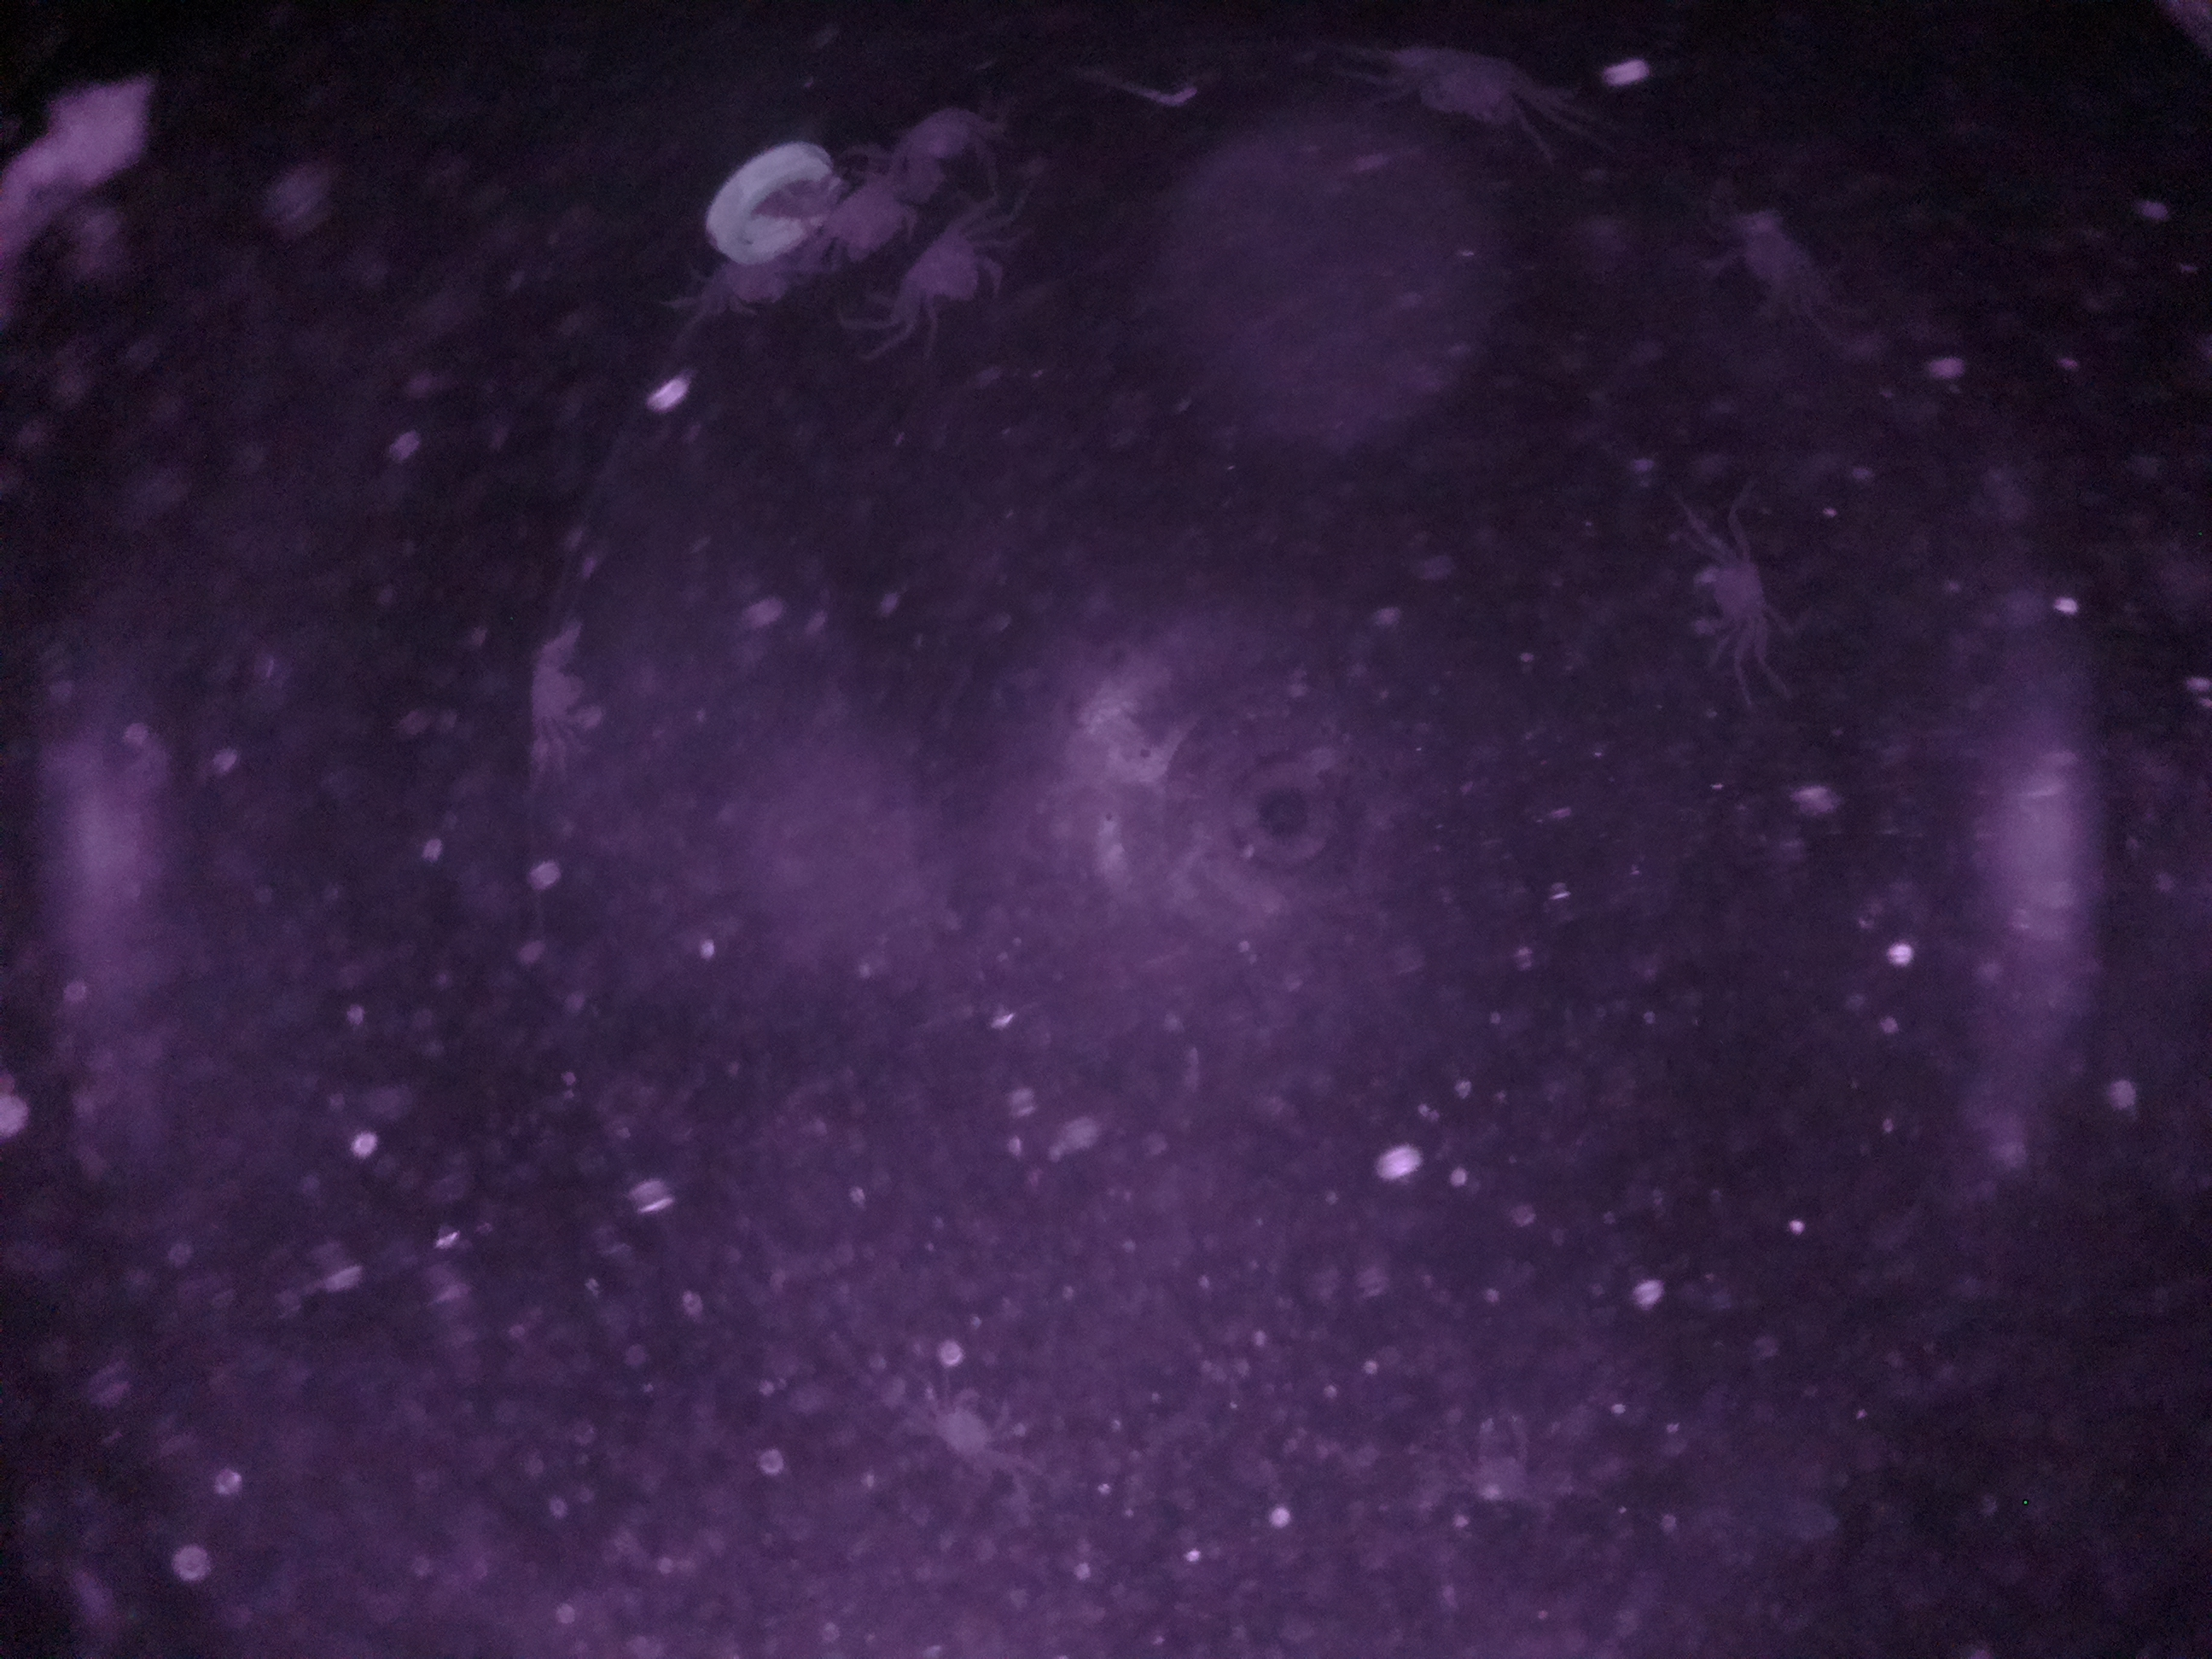Crab: (876, 202, 1042, 349), (1665, 526, 1804, 662)
